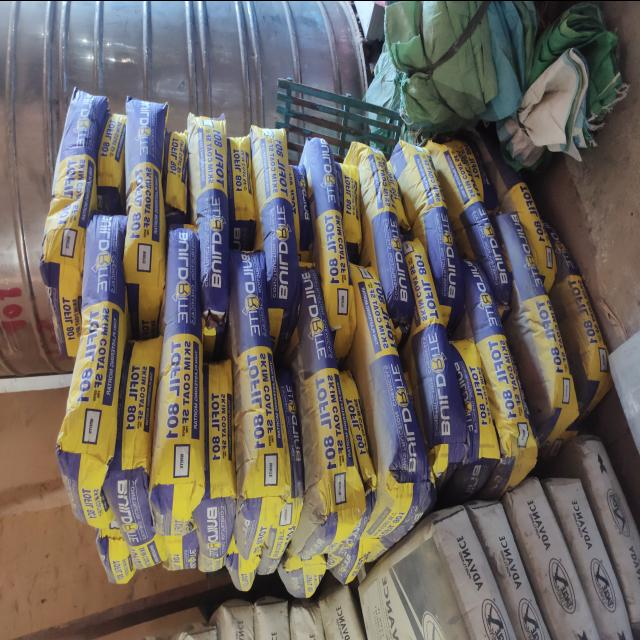Skim coat: (239, 244, 305, 590), (164, 229, 208, 533), (406, 239, 454, 502), (86, 216, 124, 532), (45, 92, 83, 361), (127, 98, 165, 338), (121, 343, 159, 567), (193, 120, 229, 356), (260, 123, 296, 346), (200, 361, 240, 557), (352, 262, 380, 542), (308, 277, 334, 575), (406, 109, 441, 309), (310, 131, 342, 347), (368, 141, 394, 346), (452, 132, 484, 298), (520, 233, 552, 399), (474, 269, 506, 435), (567, 269, 598, 423), (512, 149, 543, 295), (227, 131, 259, 251)
